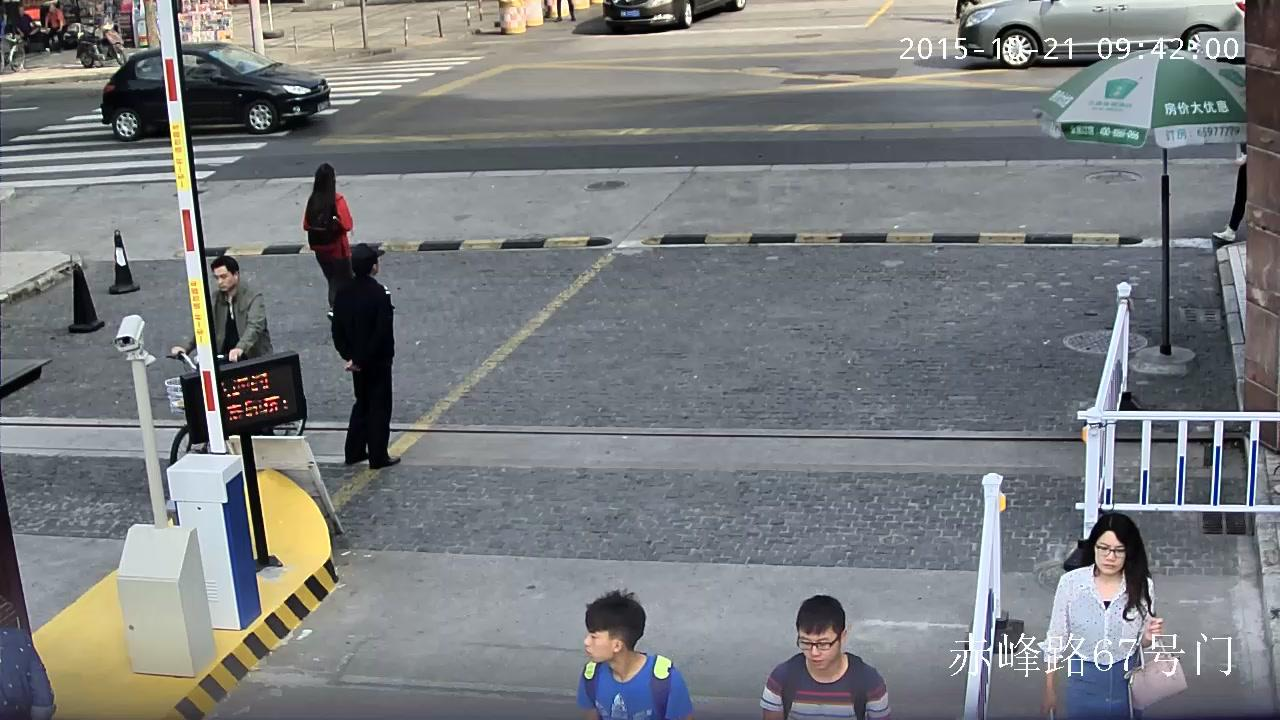person: (1038, 512, 1187, 720), (164, 256, 307, 467), (170, 256, 277, 437), (759, 594, 889, 720), (331, 243, 400, 468), (575, 590, 692, 720), (303, 162, 353, 320), (41, 2, 65, 53)
